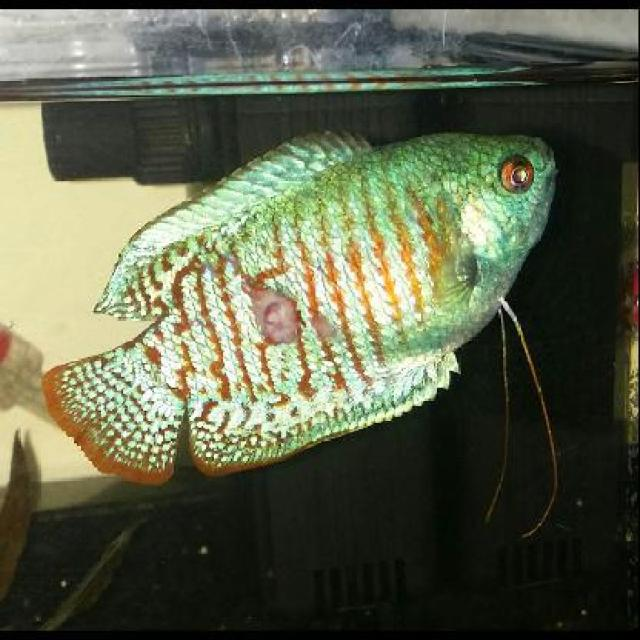Gourami: (41, 129, 558, 483)
